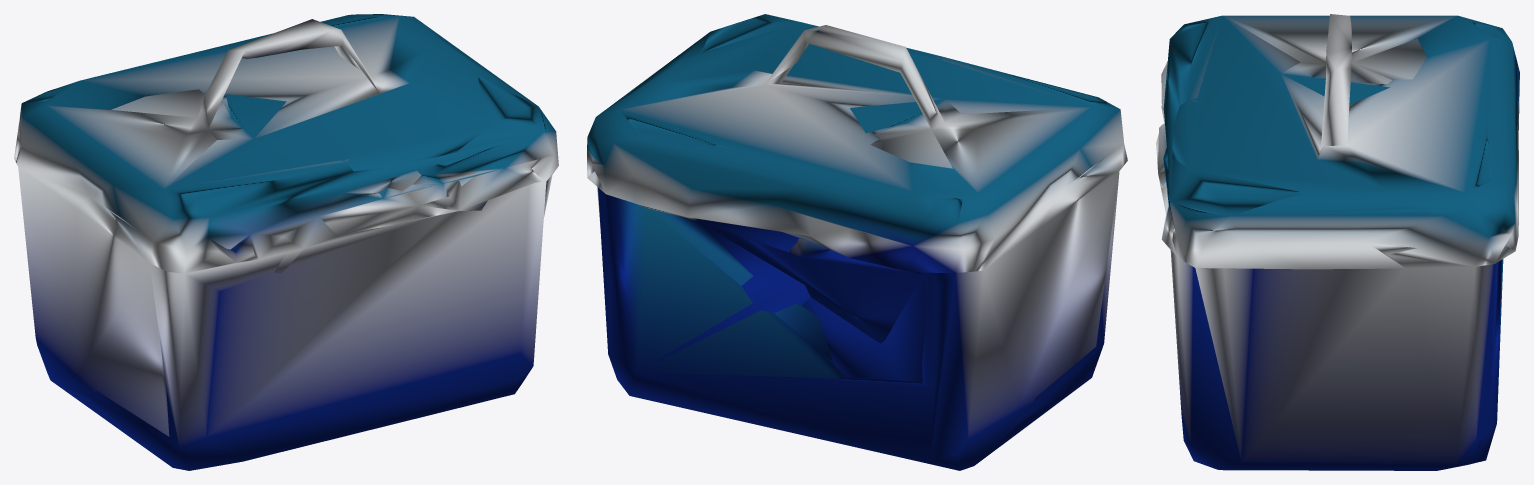
File: gen3d-beach-cooler-lod1.glb
The picture shows the model from 3 angles, left to right: view 1: azimuth 30°, elevation 25°; view 2: azimuth 150°, elevation 25°; view 3: azimuth 270°, elevation 25°; orthographic projection.
Visible parts, largest first — view 1: part_0; view 2: part_0; view 3: part_0.
Boxes of the visible parts, x1=… form: part_0: x1=14, y1=14, x2=558, y2=470; part_0: x1=587, y1=14, x2=1127, y2=470; part_0: x1=1156, y1=14, x2=1519, y2=470.
Size of the model in its own units: 1.17 by 0.9884 by 0.8997.
